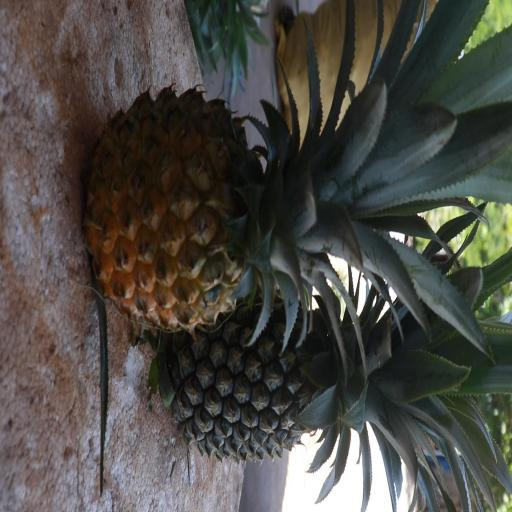Pineapple - v8 v1: (87, 81, 458, 362)
